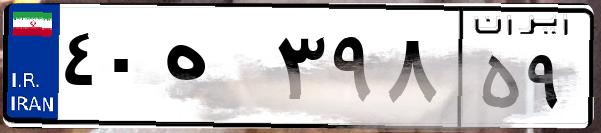0: (110, 28, 158, 98)
3: (270, 28, 330, 110)
4: (57, 26, 110, 100)
5: (475, 38, 525, 113)
8: (385, 28, 445, 110)
9: (330, 28, 385, 110), (525, 38, 570, 115)
ه: (158, 20, 270, 120)
